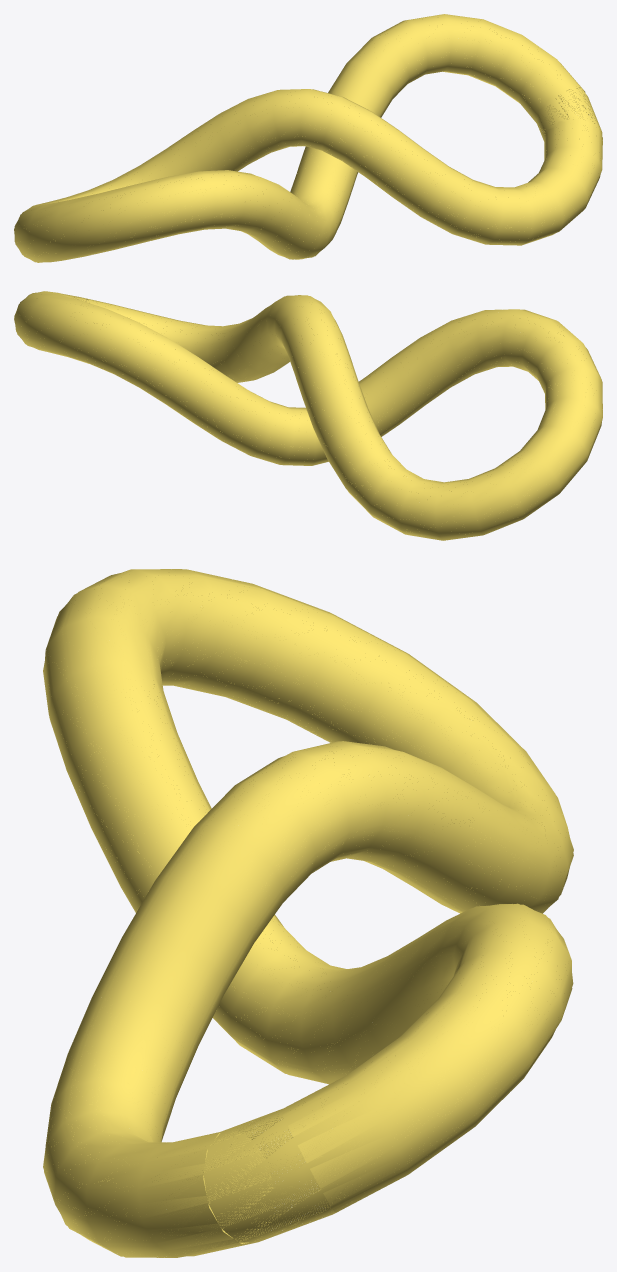
The model's file is lemniscata2.glb.
3 renders of one model, top to bottom at view 1: azimuth 30°, elevation 25°; view 2: azimuth 150°, elevation 25°; view 3: azimuth 270°, elevation 25°, orthographic. The views are drawn at different scales.
Visible parts, largest first — view 1: MyParametricCurve; view 2: MyParametricCurve; view 3: MyParametricCurve.
Boxes of the visible parts, box(x1,y1,x2,y2) form: MyParametricCurve: box(14, 14, 602, 262); MyParametricCurve: box(14, 291, 602, 540); MyParametricCurve: box(43, 569, 573, 1257).
Size of the model in its own units: 4.4 by 1.2 by 1.81.
